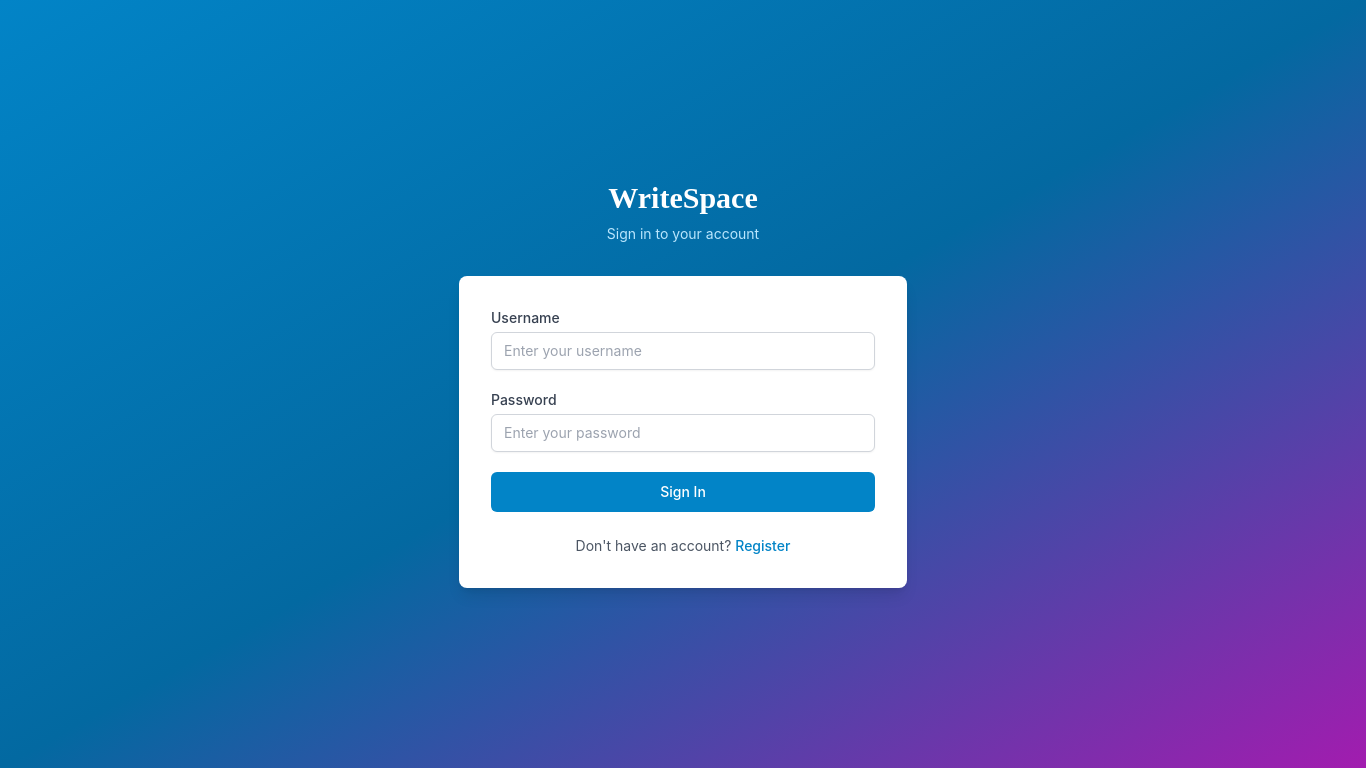
Test: LoginPage › validation › shows error when both fields are empty
Click the button "Sign In" at (683, 492), box [491,472,875,512]
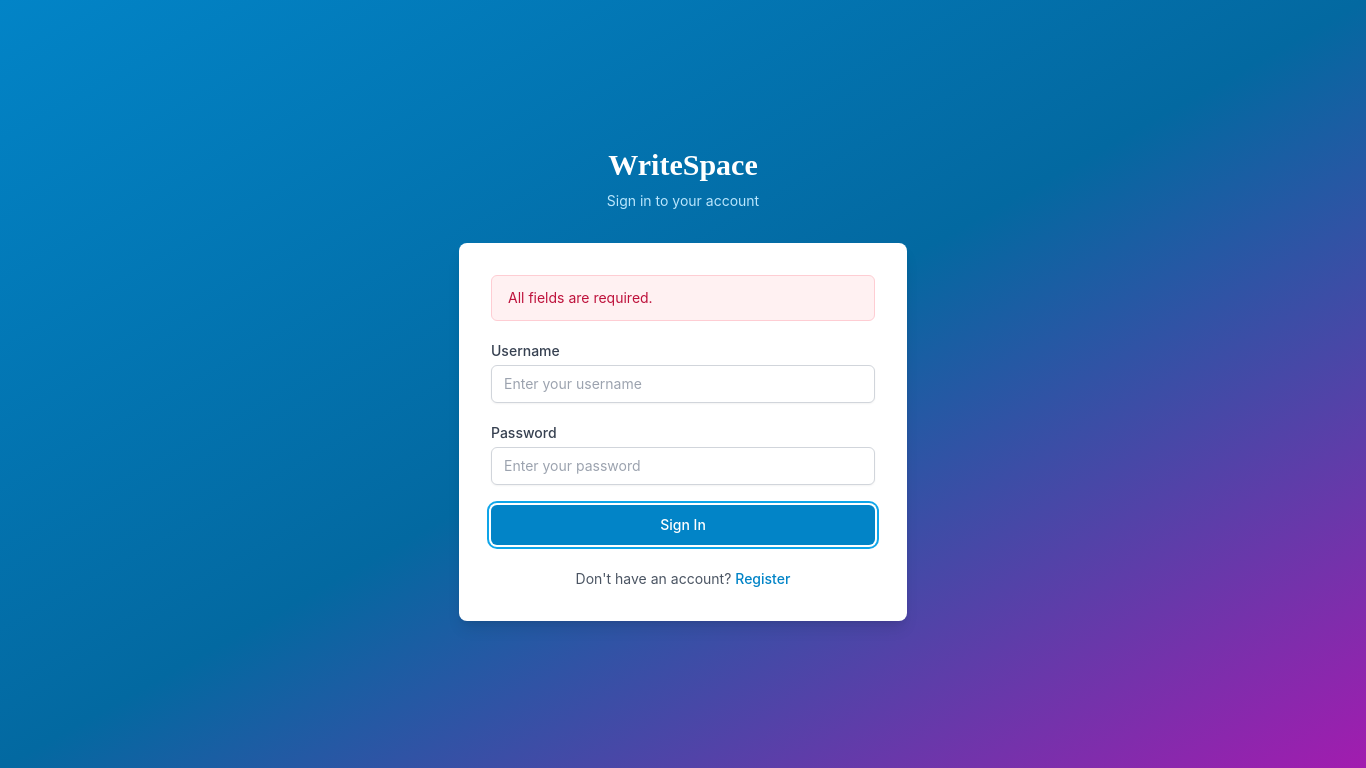
Check: the text "All fields are required." is shown, box [491,275,875,321]
